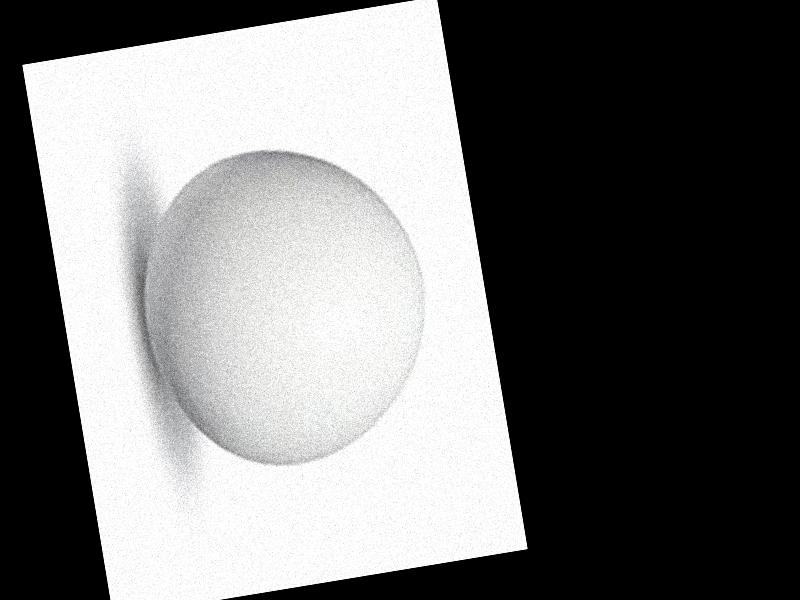Eggs: (123, 132, 451, 483)
